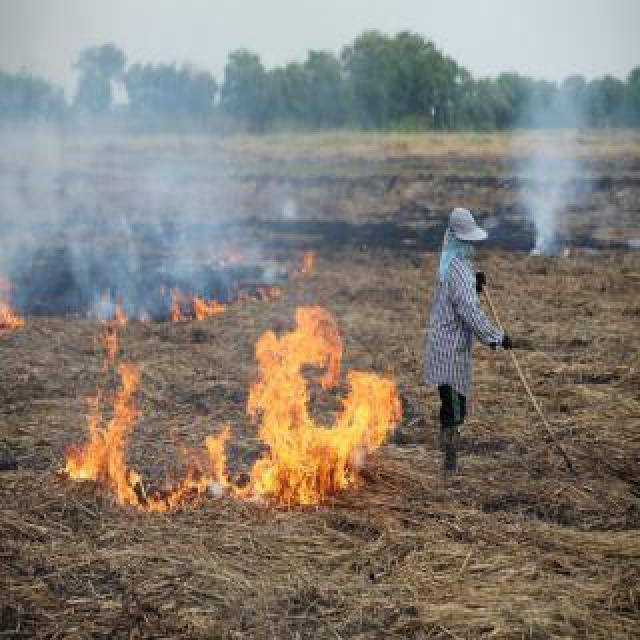Fire: (60, 300, 382, 540)
Smoke: (2, 80, 280, 334), (504, 88, 586, 258)
